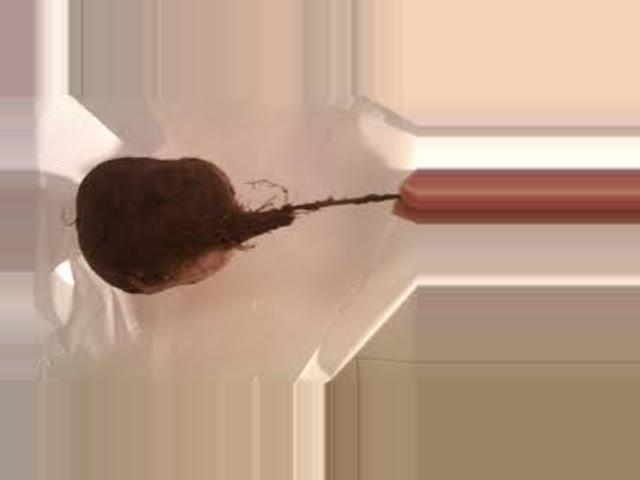beet: (74, 157, 403, 295)
